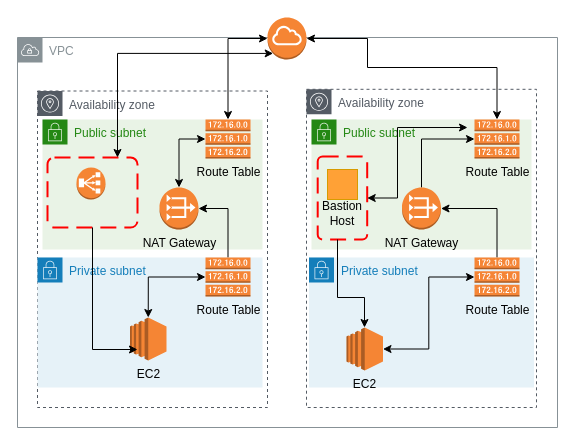
The diagram is 575 pixels wide and 445 high, and some of its shapes have lost their labels. The centre of each missing label's shape, as x and y in pixels:
"Internet Gateway" goes at point 286,38.
"Load Balancer" goes at point 91,183.
